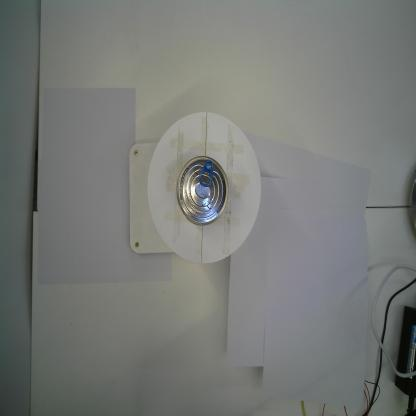Canned Food: (176, 155, 230, 227)
